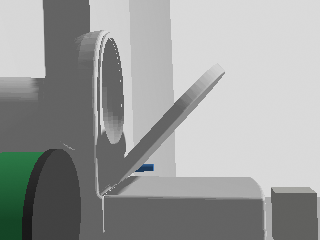lid_1: (104, 64, 225, 187)
